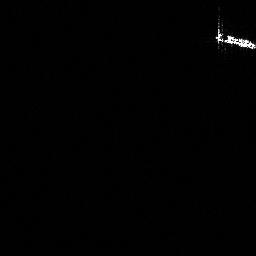ship: (214, 16, 256, 50)
